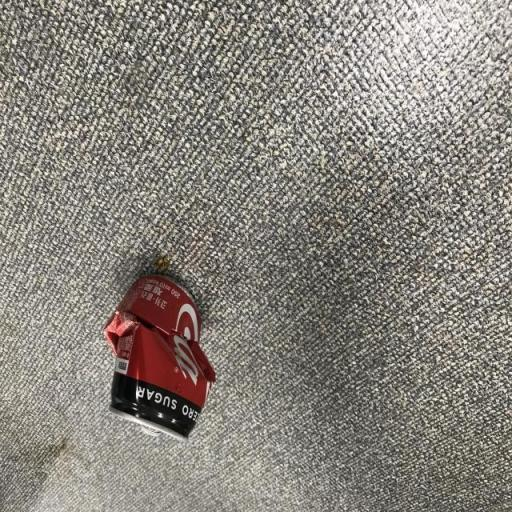metal: (94, 260, 231, 464)
